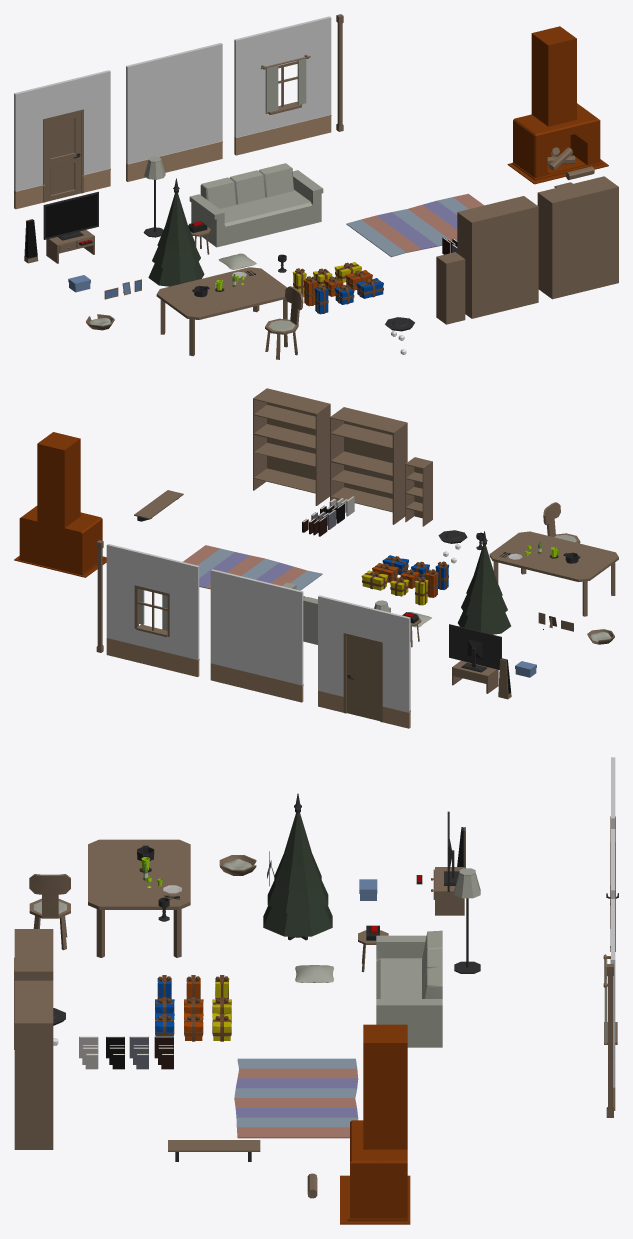
File: All_Objects_v01.fbx
The picture shows the model from 3 angles, top to bottom: view 1: azimuth 30°, elevation 25°; view 2: azimuth 150°, elevation 25°; view 3: azimuth 270°, elevation 25°; orthographic projection. The views are drawn at different scales.
Parts seen in each view (by area): view 1: Wall_simple_geo, Wall_Window_geo, Shelf_Big_02_geo, Shelf_Big_01_geo, Chimney_geo, Wall_geo, Couch_obj, Table_Dinner_geo, Carpet_geo, Door_geo, Tree_geo, shelf_small_geo (×2) (+8 smaller); view 2: Wall_simple_geo, Wall_Window_geo, Chimney_geo, Wall_geo, Shelf_Big_02_geo, Shelf_Big_01_geo, Table_Dinner_geo, Carpet_geo, Door_geo, Tree_geo, shelf_small_geo (×2), tv_geo (+5 smaller); view 3: Chimney_geo, Carpet_geo, Table_Dinner_geo, Couch_obj, Shelf_Big_02_geo, Tree_geo, Shelf_Big_01_geo, chait_geo, shelf_wall_geo, lamp_standing_geo, Chimney_Floor_geo, shelf_small_geo (+3 smaller).
Part boxes in pixels (x1,y1,x2,y2): Wall_simple_geo: [126, 43, 222, 181]; Wall_Window_geo: [234, 16, 331, 155]; Shelf_Big_02_geo: [537, 176, 618, 299]; Shelf_Big_01_geo: [457, 196, 538, 318]; Chimney_geo: [513, 26, 600, 177]; Wall_geo: [14, 70, 110, 209]; Couch_obj: [189, 163, 323, 247]; Table_Dinner_geo: [156, 267, 287, 356]; Carpet_geo: [346, 193, 484, 257]; Door_geo: [45, 112, 80, 201]; Tree_geo: [148, 193, 204, 286]; shelf_small_geo (×2): [46, 230, 465, 324]; Wall_simple_geo: [210, 569, 303, 702]; Wall_Window_geo: [106, 544, 199, 676]; Chimney_geo: [19, 432, 102, 575]; Wall_geo: [318, 595, 410, 728]; Shelf_Big_02_geo: [253, 388, 330, 505]; Shelf_Big_01_geo: [330, 407, 407, 524]; Table_Dinner_geo: [489, 531, 618, 616]; Carpet_geo: [183, 545, 322, 590]; Door_geo: [346, 636, 380, 720]; Tree_geo: [458, 545, 510, 634]; shelf_small_geo (×2): [405, 457, 498, 693]; tv_geo: [449, 624, 501, 672]; Chimney_geo: [350, 1024, 407, 1219]; Carpet_geo: [234, 1058, 358, 1138]; Table_Dinner_geo: [88, 839, 190, 957]; Couch_obj: [376, 930, 442, 1047]; Shelf_Big_02_geo: [14, 980, 53, 1149]; Tree_geo: [263, 813, 332, 940]; Shelf_Big_01_geo: [14, 929, 53, 980]; chait_geo: [29, 874, 70, 950]; shelf_wall_geo: [168, 1140, 260, 1161]; lamp_standing_geo: [454, 868, 480, 973]; Chimney_Floor_geo: [340, 1175, 410, 1224]; shelf_small_geo: [435, 867, 464, 915].
Size of the model in its own units: 14.72 by 3.87 by 10.47.
